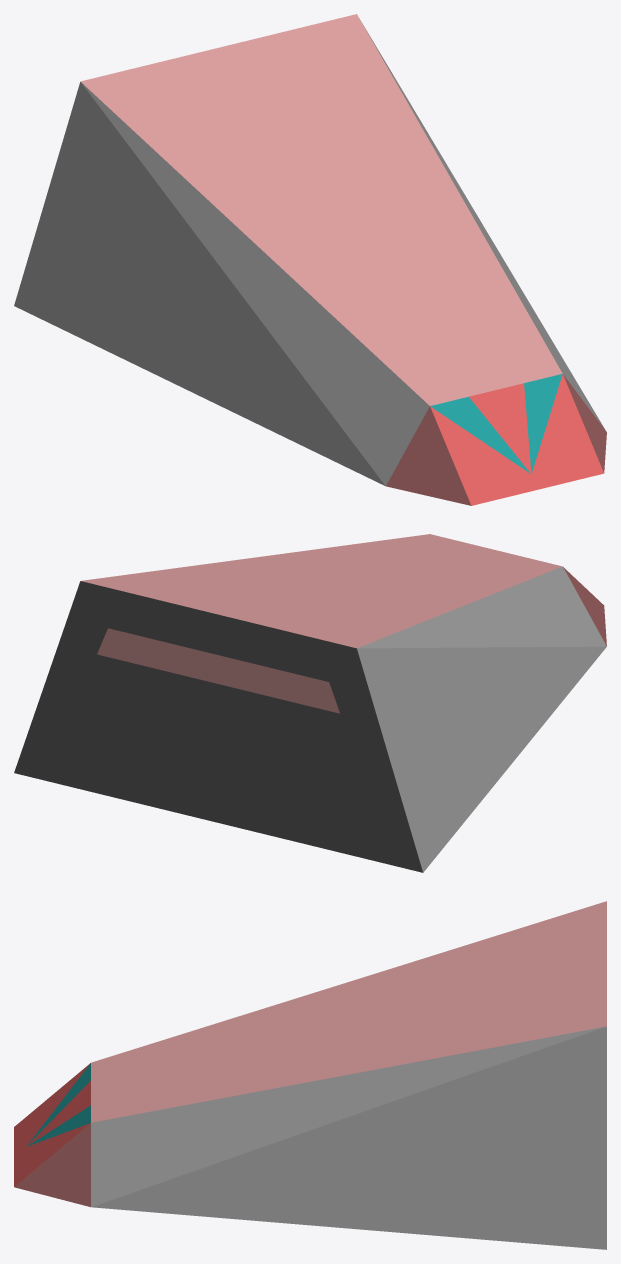
The model's file is arc_worm.glb.
3 renders of one model, top to bottom at view 1: azimuth 30°, elevation 25°; view 2: azimuth 150°, elevation 25°; view 3: azimuth 270°, elevation 25°, orthographic. The views are drawn at different scales.
Visible parts, largest first — view 1: griff_arcelite_worm; view 2: griff_arcelite_worm, griff_arcelite_worm.001; view 3: griff_arcelite_worm.
Boxes of the visible parts, box(x1,y1,x2,y2) form: griff_arcelite_worm: box(14, 14, 606, 505); griff_arcelite_worm: box(14, 534, 606, 872); griff_arcelite_worm.001: box(97, 628, 339, 713); griff_arcelite_worm: box(14, 901, 606, 1249).
Size of the model in its own units: 0.2584 by 0.1257 by 0.3492.
Materials: 1 (1 with a texture image).
